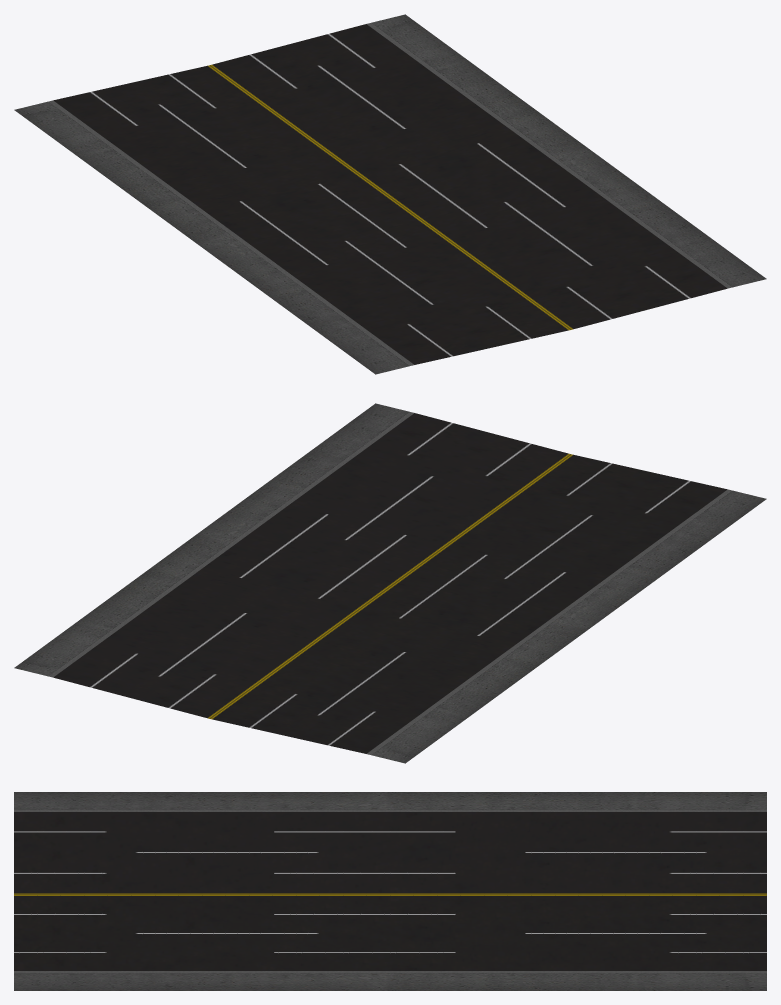
File: RJs_Road 4+4 Basic Segment_lod.fbx
3 renders of one model, top to bottom at view 1: azimuth 30°, elevation 25°; view 2: azimuth 150°, elevation 25°; view 3: azimuth 270°, elevation 25°, orthographic. The views are drawn at different scales.
Parts seen in each view (by area): view 1: plane_lod; view 2: plane_lod; view 3: plane_lod.
Part boxes in pixels (x1=…): plane_lod: x1=14, y1=14, x2=766, y2=374; plane_lod: x1=14, y1=403, x2=766, y2=763; plane_lod: x1=14, y1=792, x2=766, y2=990.
Bounding box in the file's own units: 4000 × 30.1 × 6400.
